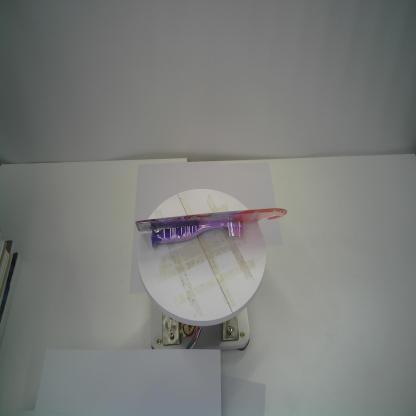Personal Hygiene: (136, 207, 288, 248)
